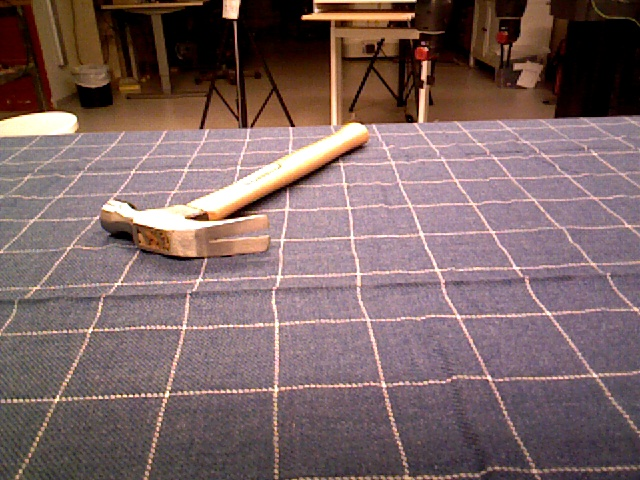hammer1: (101, 122, 371, 261)
